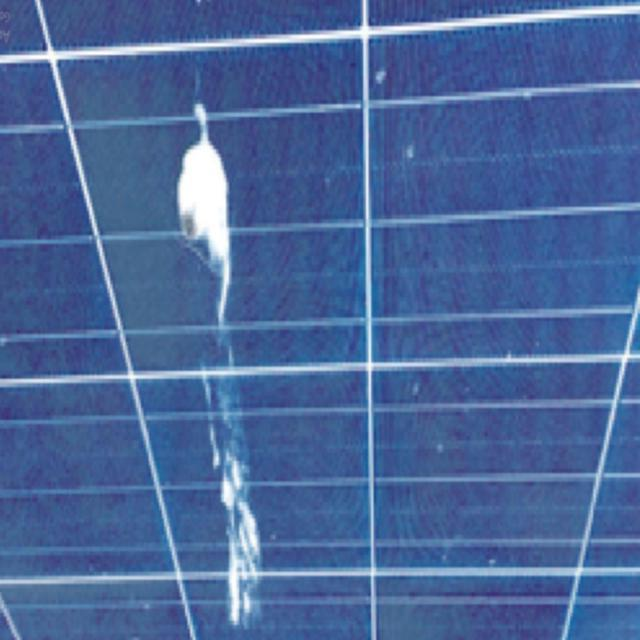soiled: (48, 0, 369, 639)
